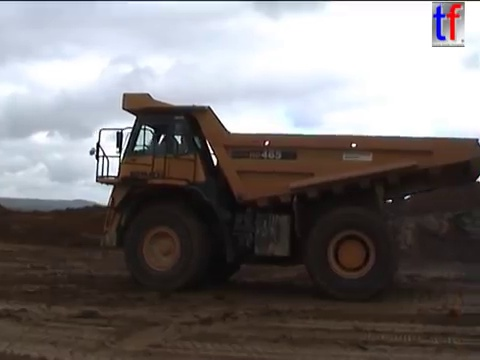truck: (86, 88, 480, 303)
